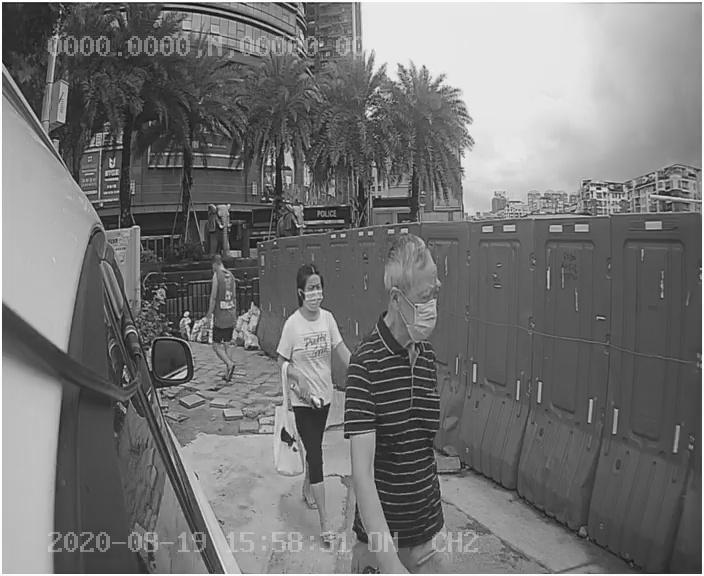person: (336, 231, 474, 536)
